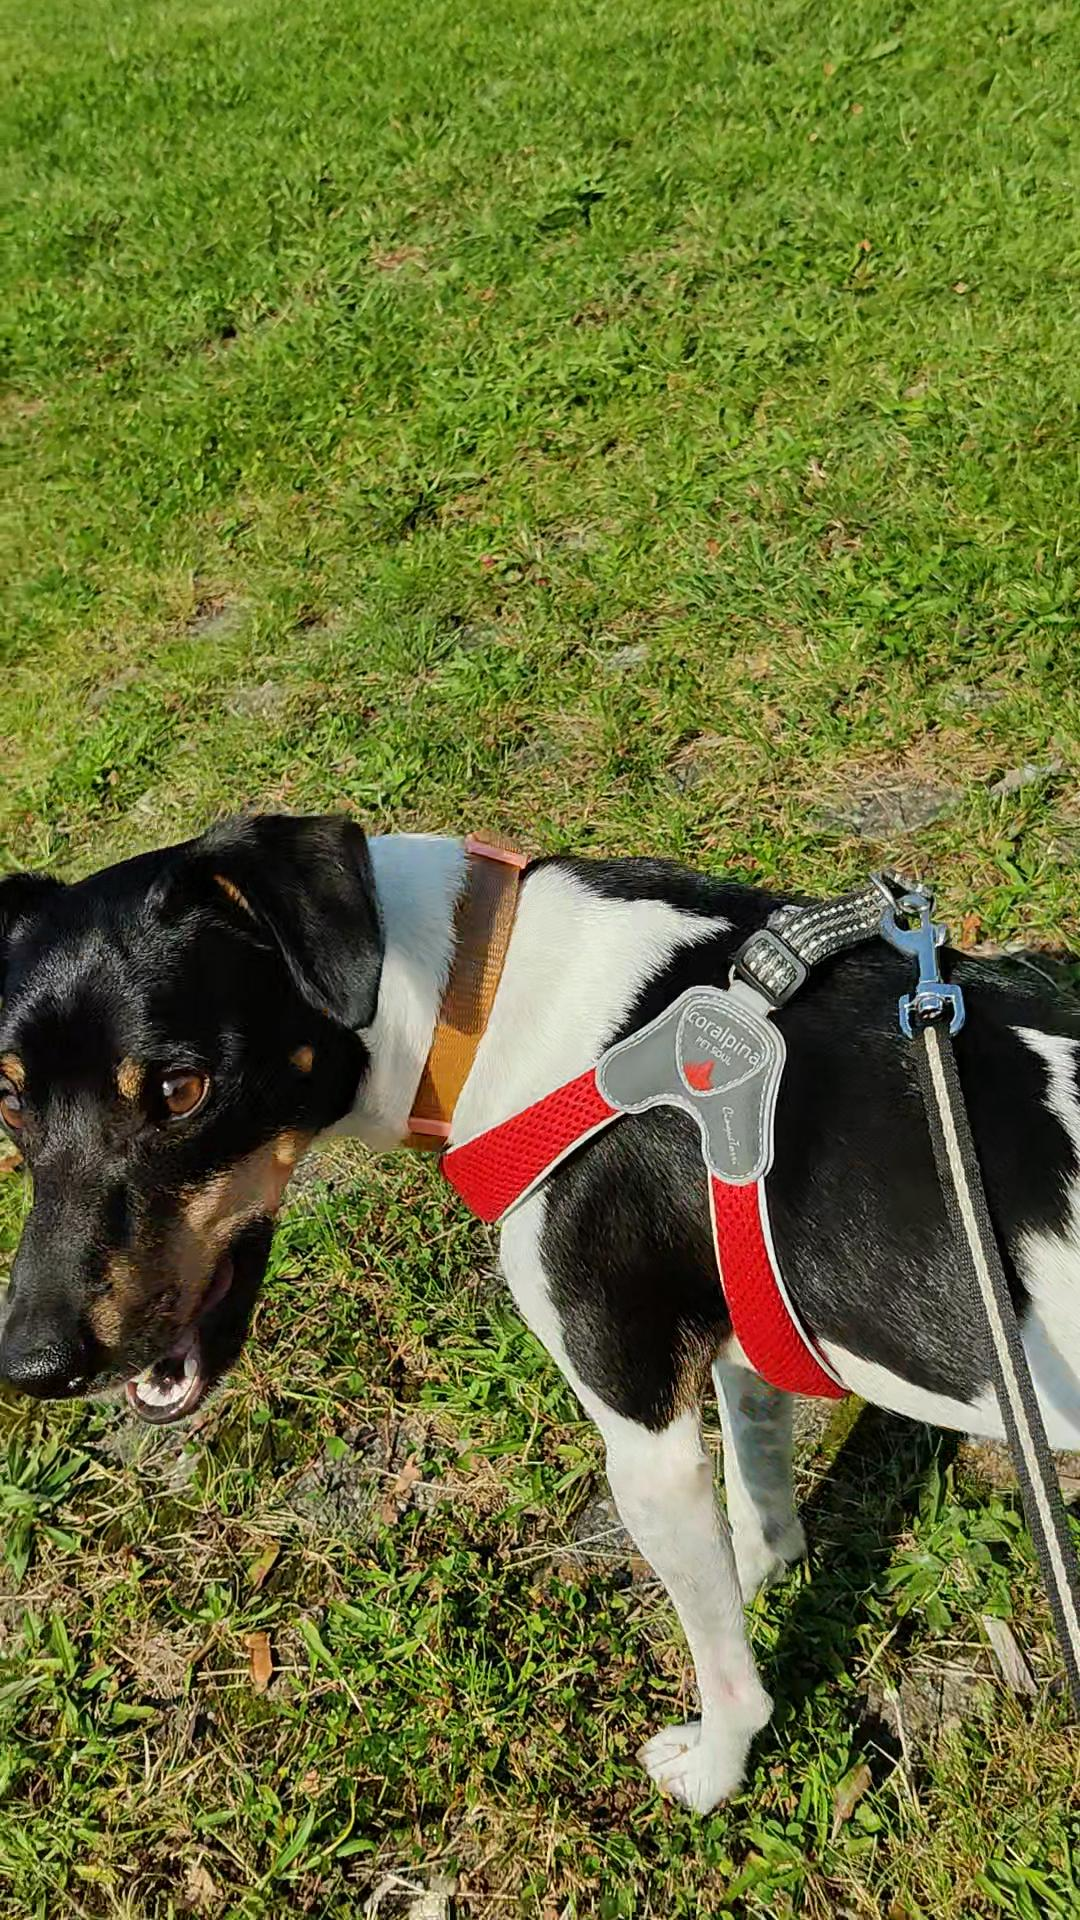Dog: (0, 791, 1080, 1866)
